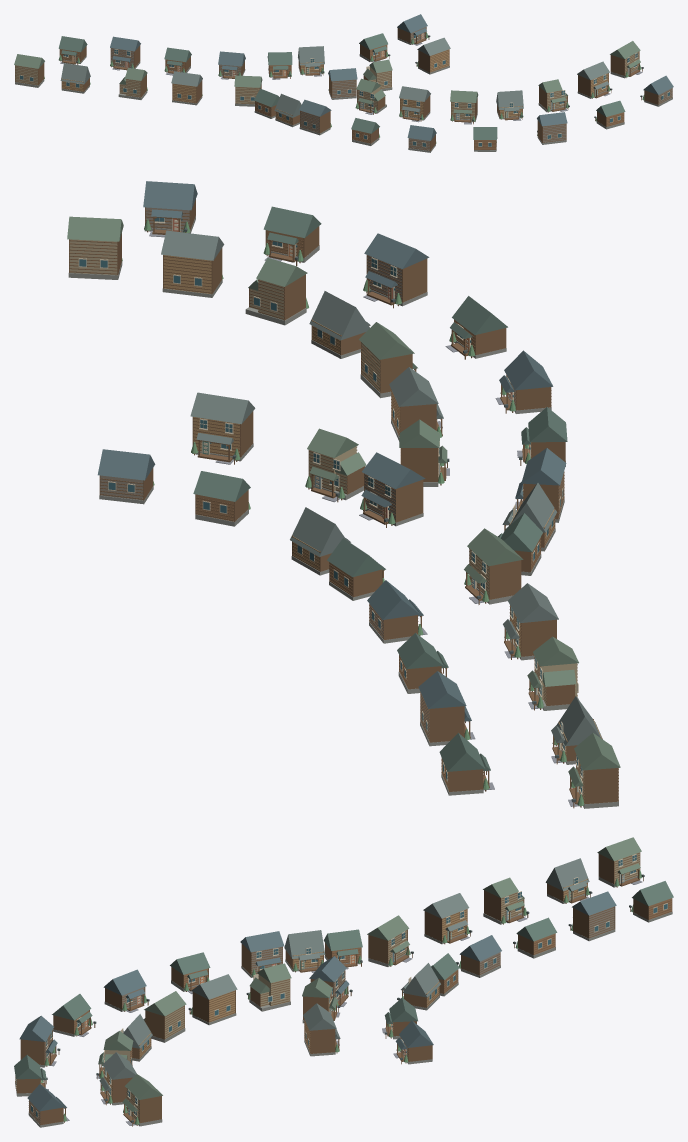
Rendered from river-meadows.glb.
3 views of the same model, one above another, from view 1: azimuth 30°, elevation 25°; view 2: azimuth 150°, elevation 25°; view 3: azimuth 270°, elevation 25° (orthographic). The views are drawn at different scales.
Visible parts, largest first — view 1: river_house_05.031, river_house_05.032, river_house_05.030, river_house_05.029, river_house_02.028, river_house_07.031, river_house_02.030, river_house_07.028, river_house_02.031, river_house_07.030, river_house_03.031, river_house_02.029 (+20 smaller); view 2: river_house_05.030, river_house_02.031, river_house_05.032, river_house_02.029, river_house_03.030, river_house_07.029, river_house_07.031, river_house_07.028, river_house_03.032, river_house_03.029, river_house_05.029, river_house_02.028 (+20 smaller); view 3: river_house_05.029, river_house_07.028, river_house_05.031, river_house_02.028, river_house_07.029, river_house_03.031, river_house_07.031, river_house_03.029, river_house_07.030, river_house_01.028, river_house_05.030, river_house_02.030 (+20 smaller).
Boxes of the visible parts, <box> form: river_house_05.031: <box>399,86,430,122</box>; river_house_05.032: <box>577,61,612,98</box>; river_house_05.030: <box>415,37,450,74</box>; river_house_05.029: <box>171,71,202,105</box>; river_house_02.028: <box>110,36,140,70</box>; river_house_07.031: <box>610,41,643,78</box>; river_house_02.030: <box>299,99,331,135</box>; river_house_07.028: <box>14,54,44,87</box>; river_house_02.031: <box>537,112,567,144</box>; river_house_07.030: <box>450,90,478,124</box>; river_house_03.031: <box>355,78,386,114</box>; river_house_02.029: <box>328,68,357,99</box>; river_house_05.030: <box>190,392,255,464</box>; river_house_02.031: <box>363,233,429,308</box>; river_house_05.032: <box>161,230,224,297</box>; river_house_02.029: <box>359,452,425,527</box>; river_house_03.030: <box>305,428,366,502</box>; river_house_07.029: <box>464,528,523,604</box>; river_house_07.031: <box>67,216,123,279</box>; river_house_07.028: <box>568,733,620,808</box>; river_house_03.032: <box>245,258,308,325</box>; river_house_03.029: <box>527,636,578,710</box>; river_house_05.029: <box>503,583,558,660</box>; river_house_02.028: <box>418,671,475,746</box>; river_house_05.029: <box>423,893,472,944</box>; river_house_07.028: <box>597,837,644,887</box>; river_house_05.031: <box>188,974,237,1025</box>; river_house_02.028: <box>568,891,616,941</box>; river_house_07.029: <box>367,915,413,966</box>; river_house_03.031: <box>246,963,291,1011</box>; river_house_07.031: <box>122,1074,162,1126</box>; river_house_03.029: <box>483,877,529,924</box>; river_house_07.030: <box>143,991,186,1042</box>; river_house_01.028: <box>545,858,592,903</box>; river_house_05.030: <box>303,1003,340,1056</box>; river_house_02.030: <box>240,931,284,977</box>.
Size of the model in its own units: 137 by 17.52 by 126.
